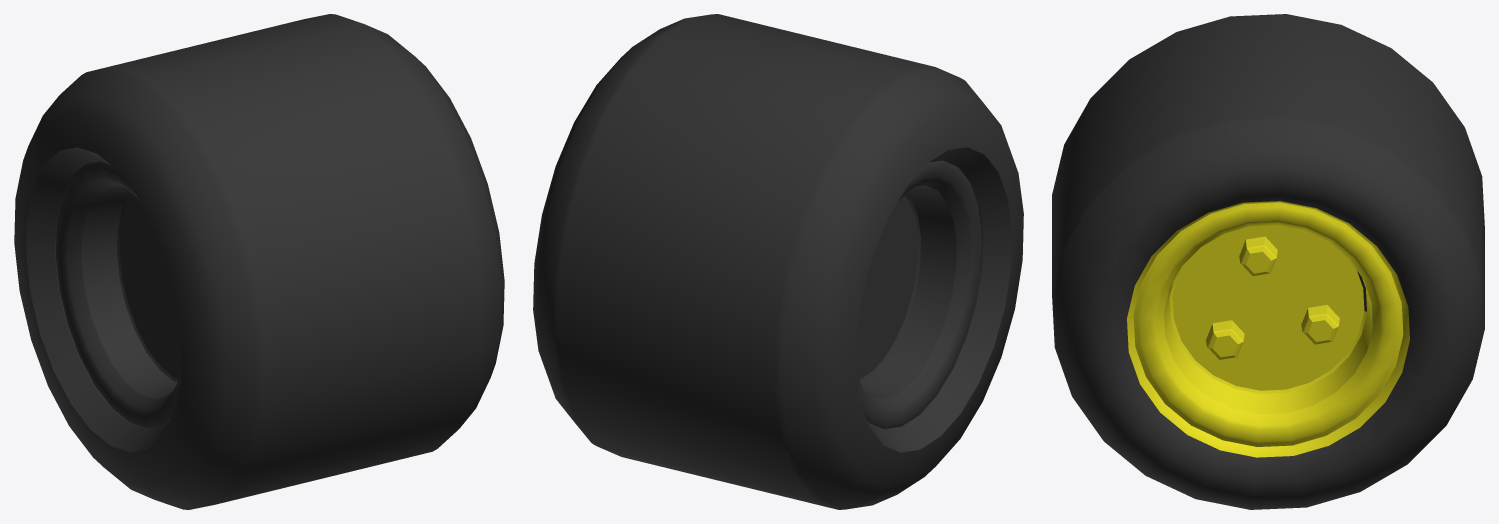
File: Wheel.fbx
The picture shows the model from 3 angles, left to right: view 1: azimuth 30°, elevation 25°; view 2: azimuth 150°, elevation 25°; view 3: azimuth 270°, elevation 25°; orthographic projection. The views are drawn at different scales.
Parts seen in each view (by area): view 1: WheelFrontLeft; view 2: WheelFrontLeft; view 3: WheelFrontLeft.
Part boxes in pixels (bbox=[...]): WheelFrontLeft: bbox=[14, 14, 504, 509]; WheelFrontLeft: bbox=[533, 14, 1023, 509]; WheelFrontLeft: bbox=[1052, 14, 1484, 509].
Bounding box in the file's own units: 21.65 × 27.46 × 27.46.
